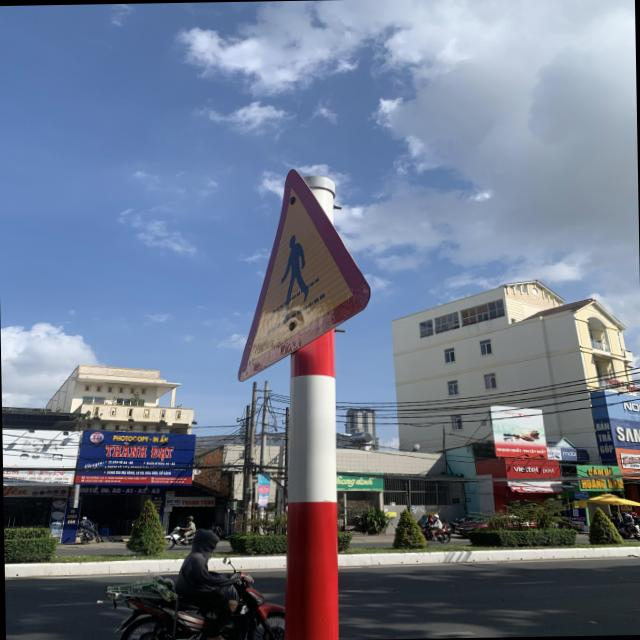Duong_Nguoi_Di_Bo_Sang_Ngang: (232, 166, 376, 382)
